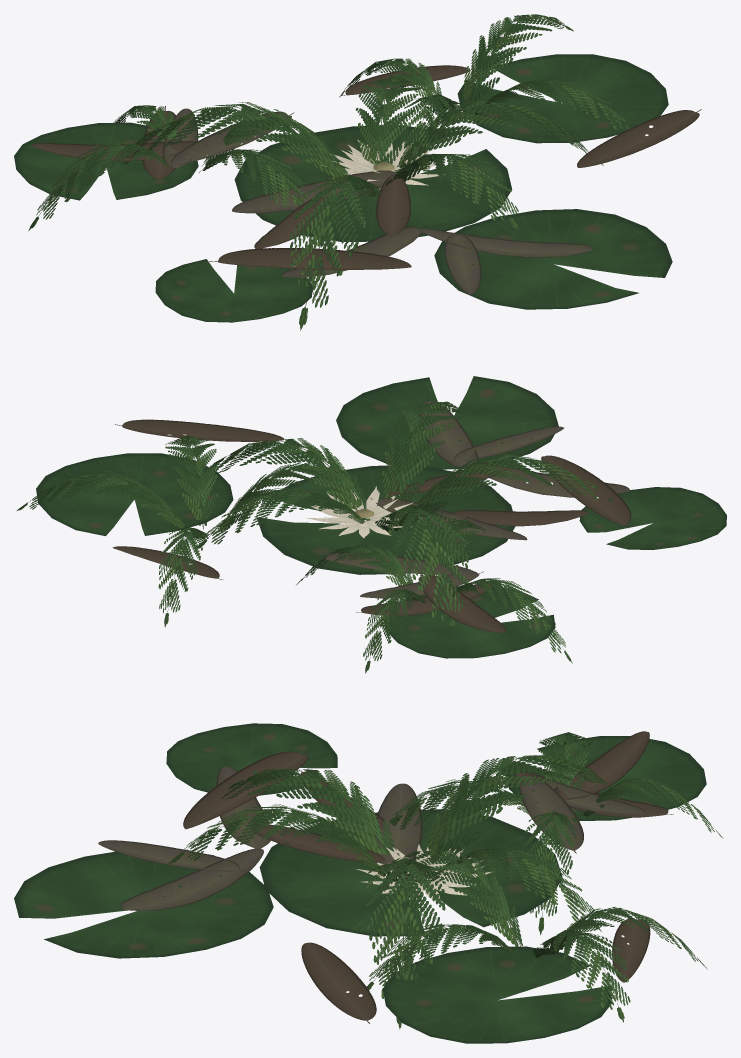
The model's file is groundcover_cuyabeno_LOD0.glb.
3 renders of one model, top to bottom at view 1: azimuth 30°, elevation 25°; view 2: azimuth 150°, elevation 25°; view 3: azimuth 270°, elevation 25°, orthographic. The views are drawn at different scales.
Parts seen in each view (by area): view 1: GC_WaterLily_LOD0, GC_Fern_LOD0, GC_CacaoLeaves_LOD0; view 2: GC_WaterLily_LOD0, GC_Fern_LOD0, GC_CacaoLeaves_LOD0; view 3: GC_WaterLily_LOD0, GC_Fern_LOD0, GC_CacaoLeaves_LOD0.
Part boxes in pixels (x1,y1,x2,y2): GC_WaterLily_LOD0: (14,54,672,322); GC_Fern_LOD0: (28,14,629,330); GC_CacaoLeaves_LOD0: (31,65,701,294); GC_WaterLily_LOD0: (36,376,726,658); GC_Fern_LOD0: (17,401,610,673); GC_CacaoLeaves_LOD0: (112,397,631,632); GC_WaterLily_LOD0: (14,723,706,1043); GC_Fern_LOD0: (168,732,723,1029); GC_CacaoLeaves_LOD0: (98,731,673,1023).
Bounding box in the file's own units: 1.05 × 0.192 × 0.9871.
Materials: 1 (1 with a texture image).
